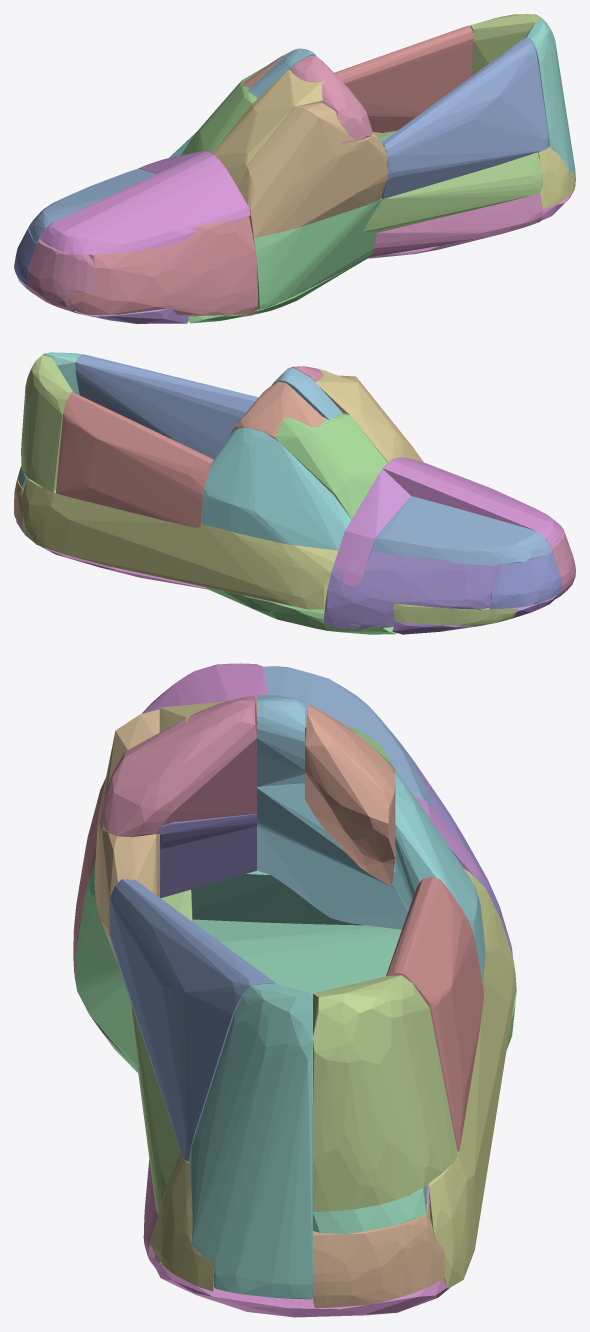
File: womens_bluefish_2eye_boat_shoe_in_tan_hulls.glb
The picture shows the model from 3 angles, top to bottom: view 1: azimuth 30°, elevation 25°; view 2: azimuth 150°, elevation 25°; view 3: azimuth 270°, elevation 25°; orthographic projection. The views are drawn at different scales.
Visible parts, largest first — view 1: geometry_0; view 2: geometry_0; view 3: geometry_0.
Part boxes in pixels (x1,y1,x2,y2): geometry_0: (14,14,575,323); geometry_0: (14,352,575,634); geometry_0: (73,663,516,1317).
Size of the model in its own units: 0.2512 by 0.0913 by 0.0919.
